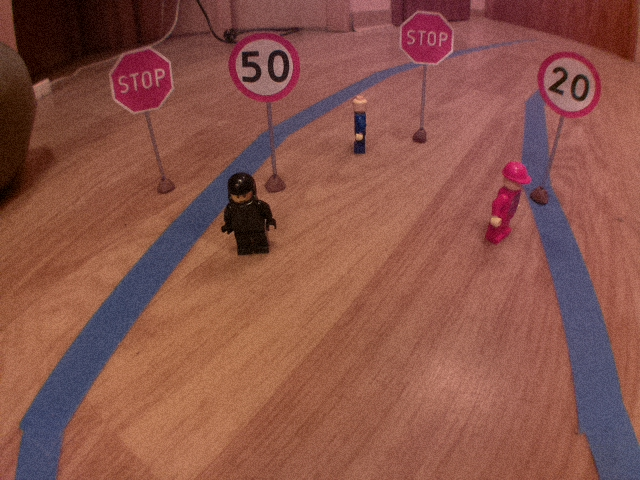LEGO_person: (479, 159, 535, 248), (348, 91, 371, 157)
ogr_20: (534, 48, 605, 121)
ogr_50: (226, 29, 302, 106)
stop: (103, 43, 177, 116), (397, 8, 458, 70)
